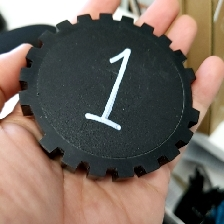gear: (17, 11, 201, 182)
missing: (19, 87, 58, 157), (182, 68, 201, 126)
